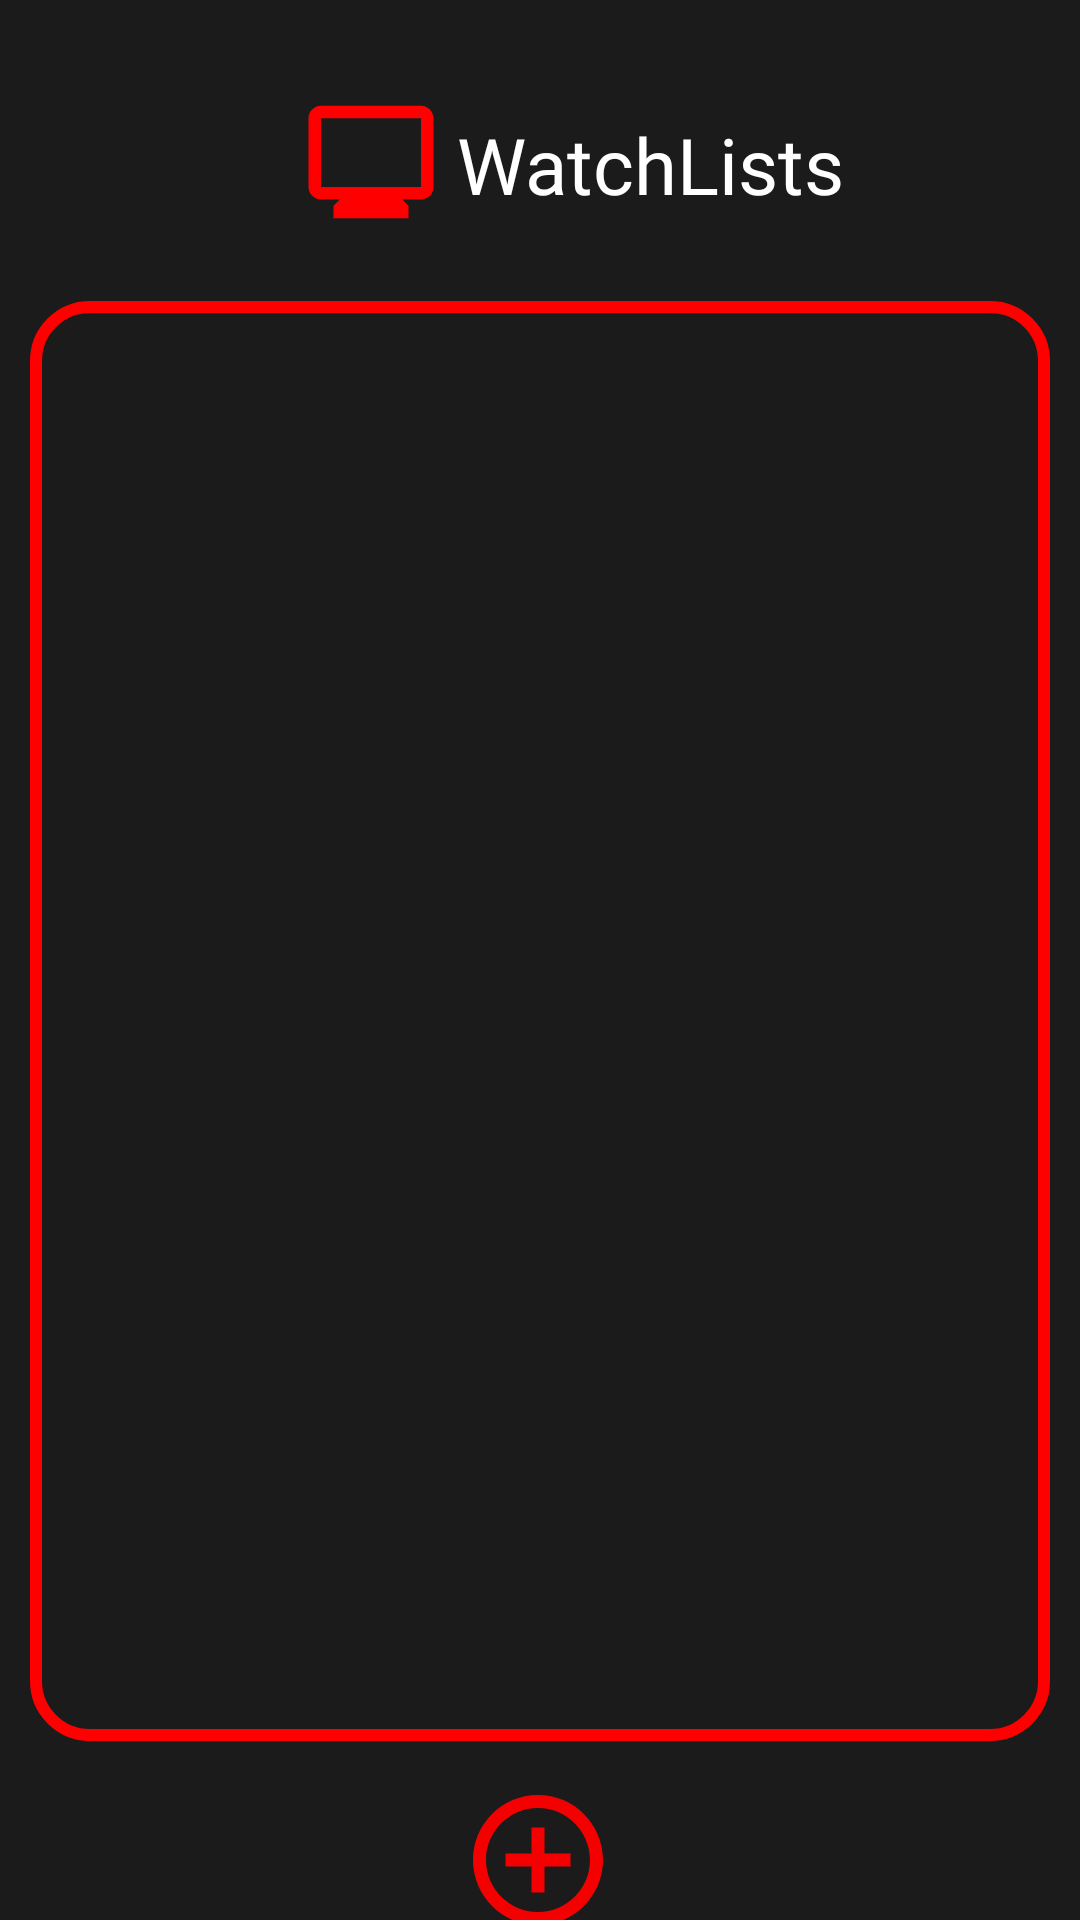

Screen size 1080*1920. Icon name, then its box in pixels as (x1, y1, x2, y2):
monitor: (308, 105, 434, 219)
